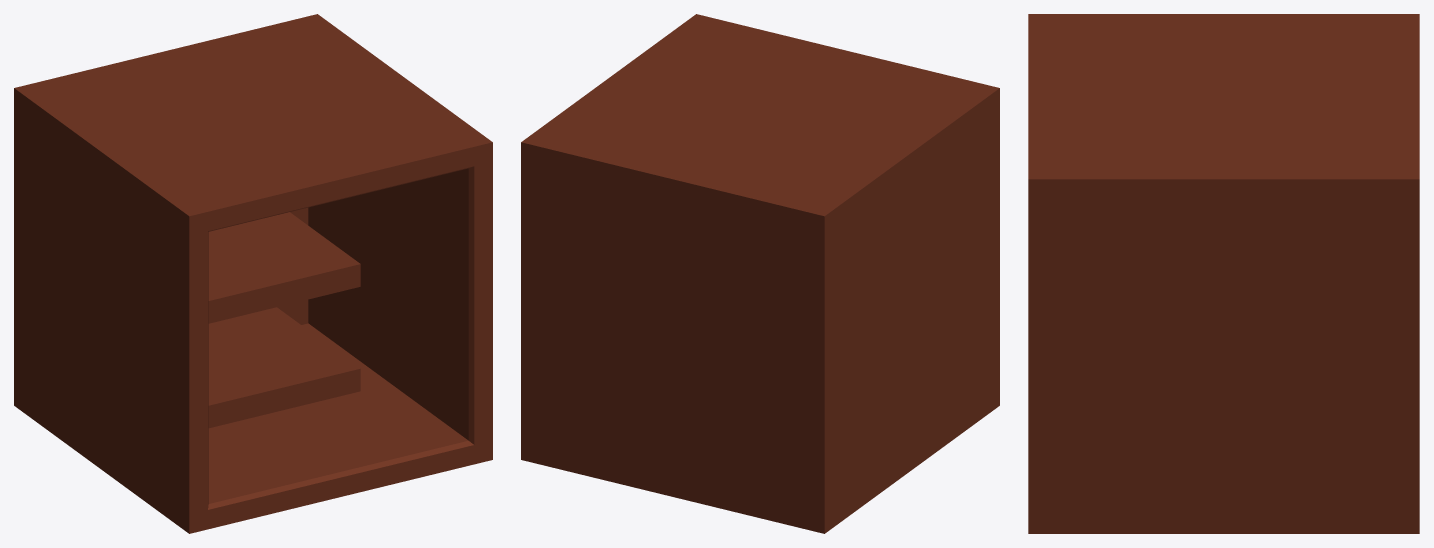
The model's file is Book_Shelves_Mod02.fbx.
The picture shows the model from 3 angles, left to right: view 1: azimuth 30°, elevation 25°; view 2: azimuth 150°, elevation 25°; view 3: azimuth 270°, elevation 25°; orthographic projection. The views are drawn at different scales.
Parts seen in each view (by area): view 1: Book_Shelves_Mod02; view 2: Book_Shelves_Mod02; view 3: Book_Shelves_Mod02.
Part boxes in pixels (x1,y1,x2,y2): Book_Shelves_Mod02: [14, 14, 492, 533]; Book_Shelves_Mod02: [521, 14, 999, 533]; Book_Shelves_Mod02: [1028, 14, 1419, 533].
Size of the model in its own units: 70 by 70 by 70.
Materials: 1 (1 with a texture image).
